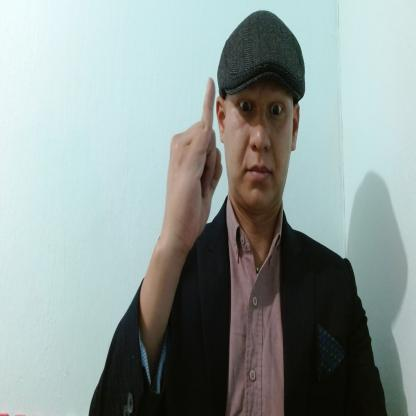I: (165, 76, 224, 244)
